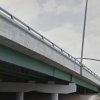Bridge: (6, 5, 95, 99)
